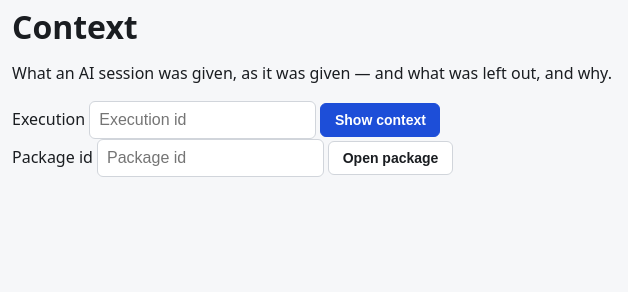
Test: T1268 · the Context screen › lists the packages an execution was given, by objective and state
Type "ex_1" into the field labelled "Execution" at point(203, 120), box [89,101,316,139]
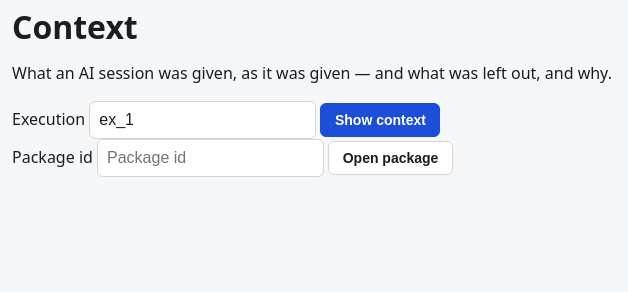
Click the button "Show context" at point(380, 120), box [320,103,440,137]
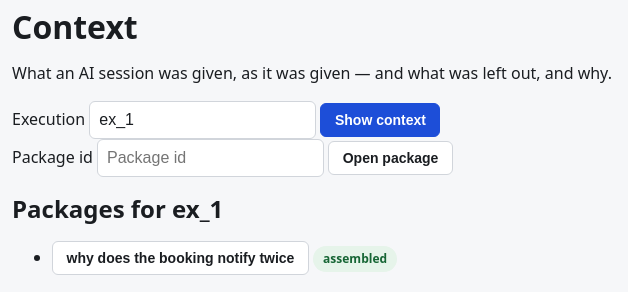
expect the heading "Packages for ex_1" is shown: met, box [12,192,223,225]
expect the button "why does the booking notify twice" is shown: met, box [52,241,309,275]
expect the text "assembled" is shown: met, box [313,246,397,272]
